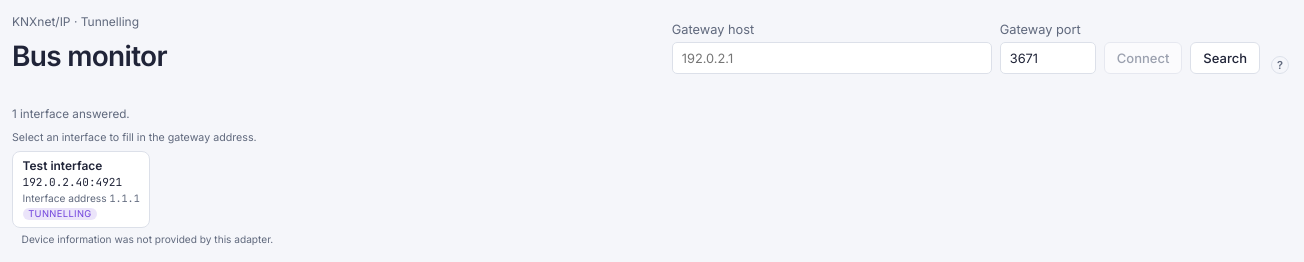
Test case: separates a discovered endpoint without connecting automatically
What coordinates should you click on to do the following:
click the button with class "bus-discovery-option"
I would click on:
 (81, 189)
Its box is [12,150,150,228].
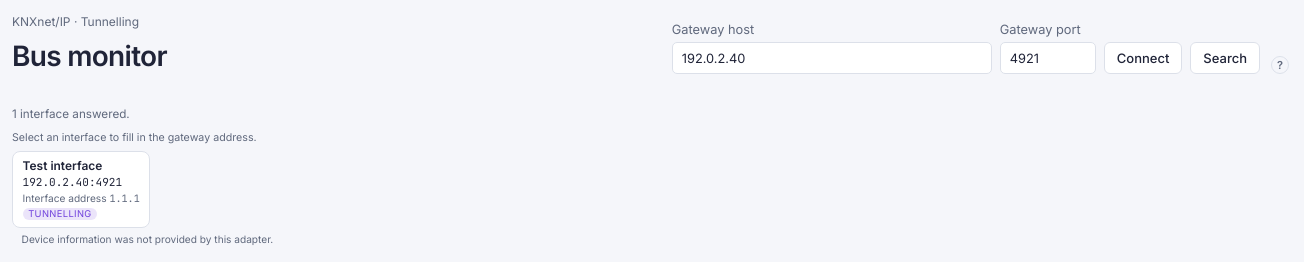
Check: the field with class "bus-monitor-host" holds "192.0.2.40", box [672,42,992,74]
Check: the field with class "bus-monitor-port" holds "4921", box [1000,42,1096,74]
